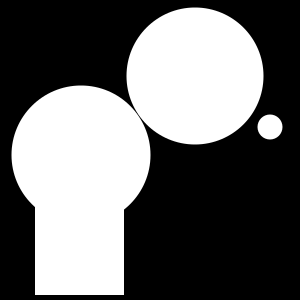circle: (35, 206, 124, 295)
rectangle: (12, 86, 150, 225), (126, 8, 264, 144), (165, 33, 245, 113), (258, 114, 282, 140)
